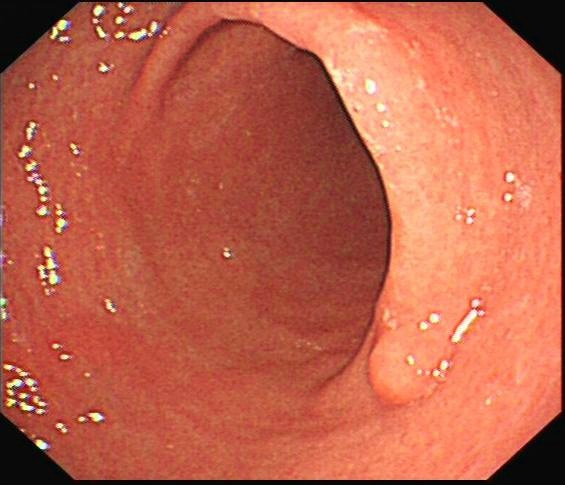Polyp: (353, 313, 453, 419)
